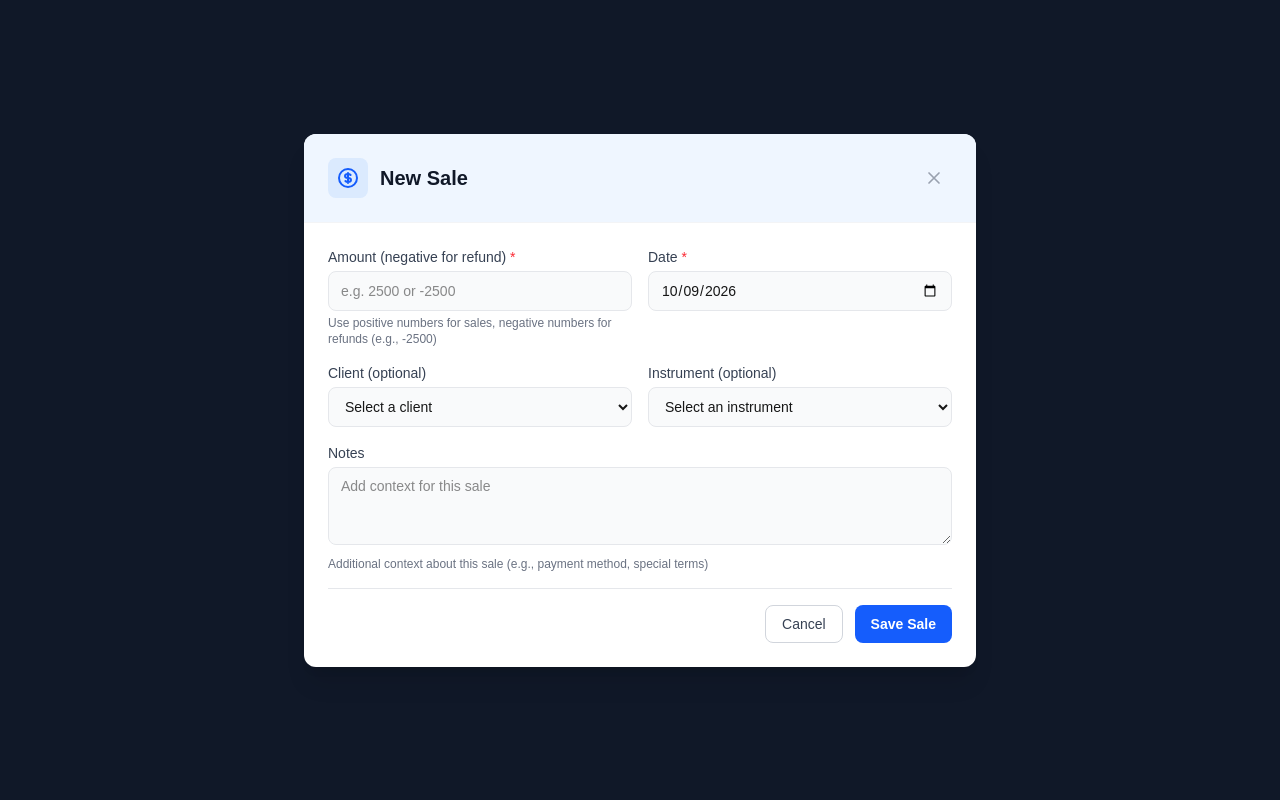
Test: SaleForm › should validate required fields
Click the button "Save Sale".
click(903, 624)  # box [855,604,952,642]
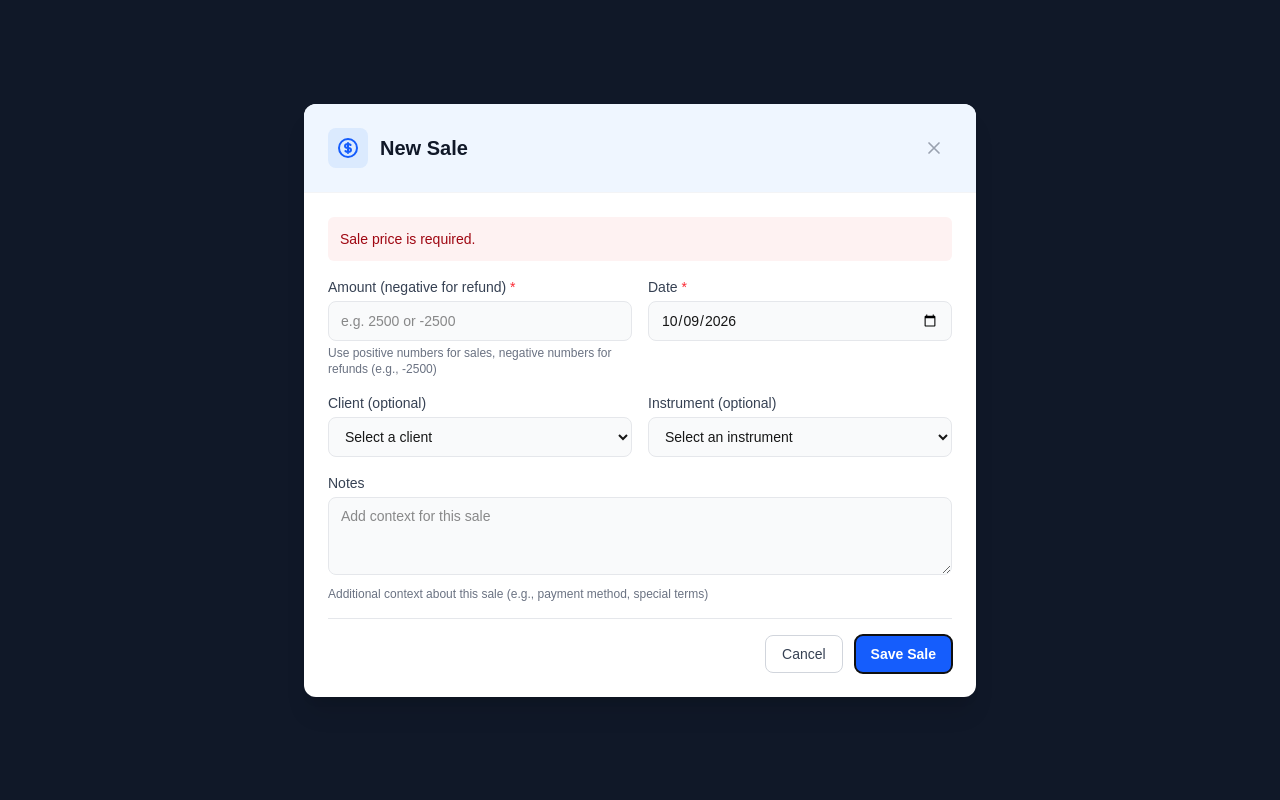
Check: the text "Sale price is required." is shown, box [340,230,475,246]
